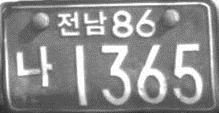1: (72, 43, 89, 109)
3: (99, 44, 132, 106)
5: (171, 41, 205, 105)
6: (135, 42, 167, 104), (136, 8, 157, 39)
8: (111, 9, 135, 40)
나: (14, 43, 53, 88)
전남_O: (56, 10, 108, 37)
